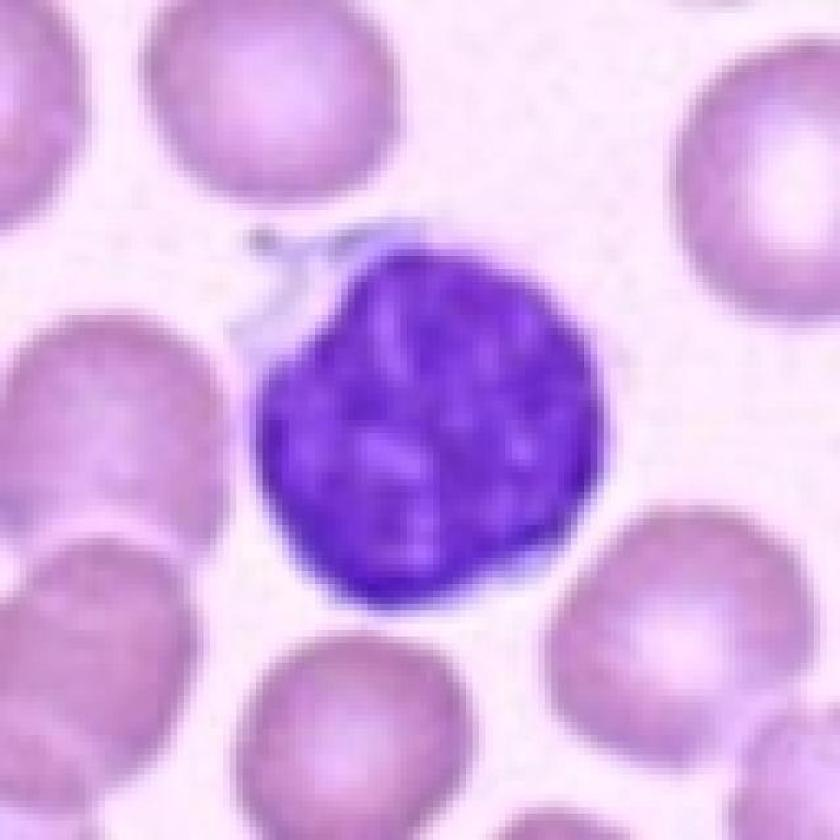lymphocyte: (214, 218, 622, 625)
